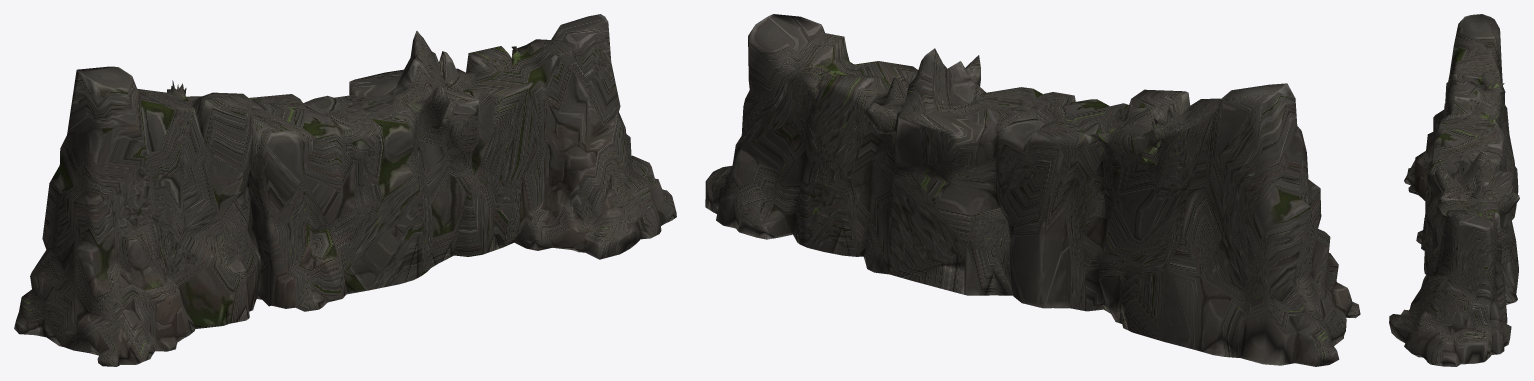
Rendered from cliff2.glb.
3 views of the same model, side by side, from view 1: azimuth 30°, elevation 25°; view 2: azimuth 150°, elevation 25°; view 3: azimuth 270°, elevation 25° (orthographic). The views are drawn at different scales.
Visible parts, largest first — view 1: cliff2; view 2: cliff2; view 3: cliff2.
Boxes of the visible parts, x1,y1,x2,y2 form: cliff2: (14,14,676,366); cliff2: (705,14,1360,366); cliff2: (1389,14,1519,366).
Size of the model in its own units: 1.9 by 0.7294 by 0.5111.
Materials: 1 (1 with a texture image).
